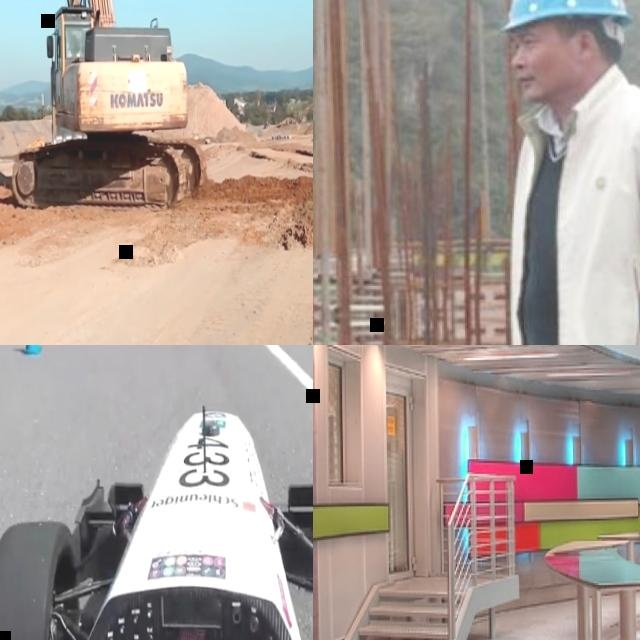Hardhat: (497, 0, 632, 31)
NO-Mask: (515, 61, 582, 101)
NO-Safety Vest: (516, 98, 640, 345)
Person: (499, 0, 640, 345), (66, 36, 80, 58)
Safety Cone: (20, 345, 42, 356)
Safety Vest: (66, 47, 79, 56)
machinery: (8, 0, 206, 213)
vehicle: (0, 397, 313, 640)
